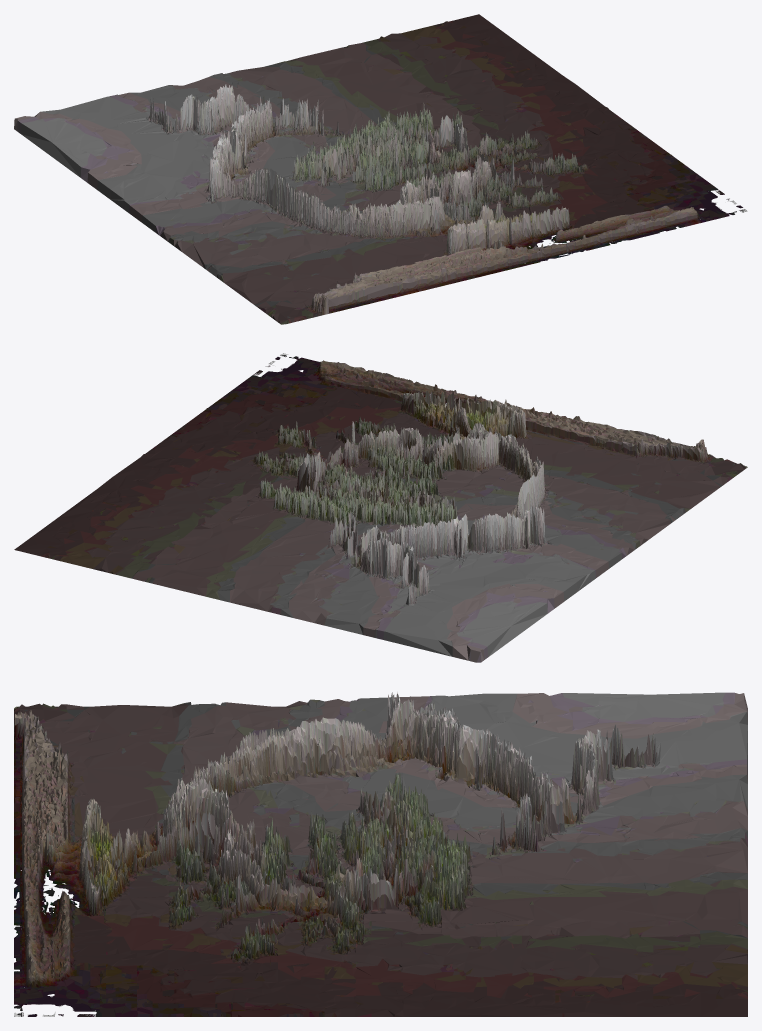
Rendered from bonsai-back.glb.
3 views of the same model, one above another, from view 1: azimuth 30°, elevation 25°; view 2: azimuth 150°, elevation 25°; view 3: azimuth 270°, elevation 25° (orthographic). The views are drawn at different scales.
Visible parts, largest first — view 1: Bonsai; view 2: Bonsai; view 3: Bonsai.
Boxes of the visible parts, bbox=[...] form: Bonsai: bbox=[14, 14, 747, 324]; Bonsai: bbox=[14, 353, 747, 662]; Bonsai: bbox=[14, 692, 747, 1016].
Size of the model in its own units: 100 by 9.68 by 100.
